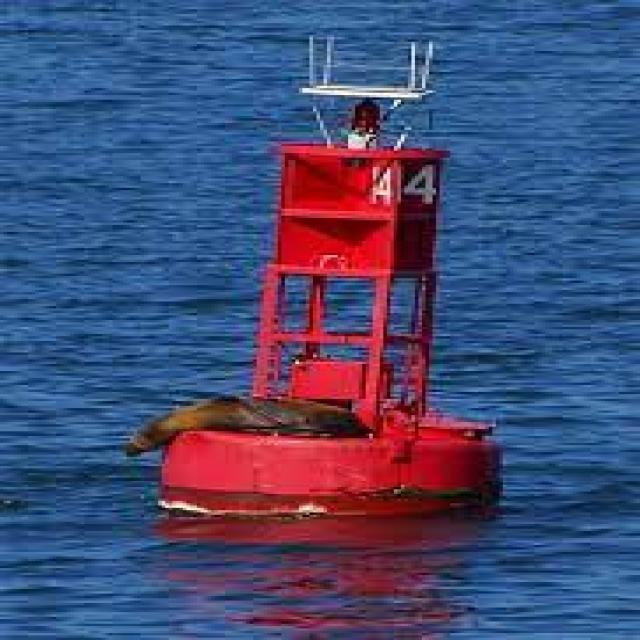marque: (147, 15, 513, 535)
